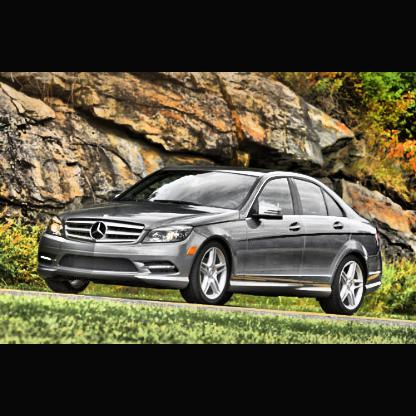Mercedes-Benz C-Class Sedan 2012: (37, 163, 385, 317)
